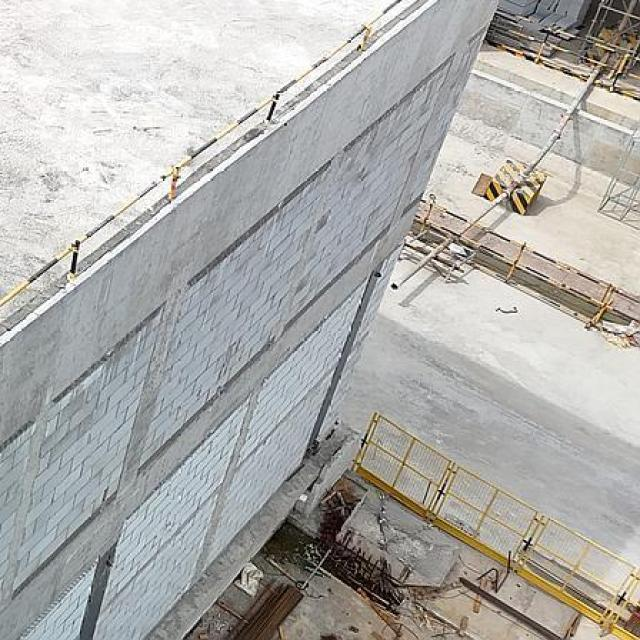edge_guardrail: (0, 0, 414, 310), (484, 6, 640, 100)
